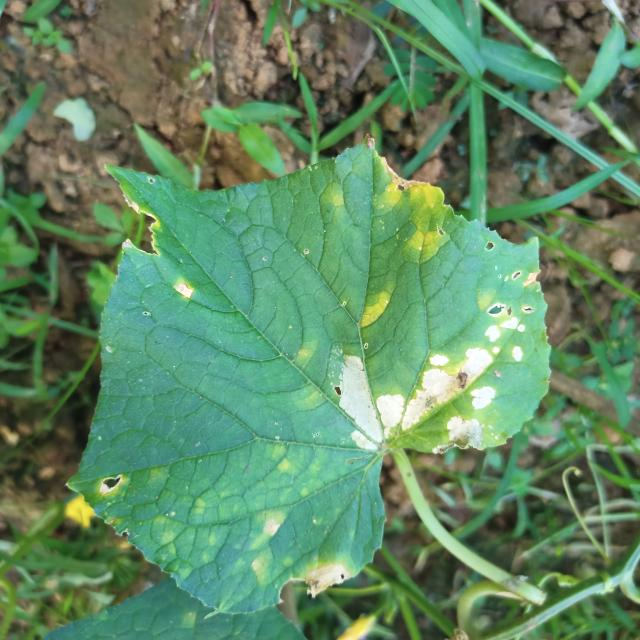disease_cucumber: (338, 309, 530, 457), (370, 173, 450, 264), (240, 503, 289, 582), (355, 286, 397, 330)
